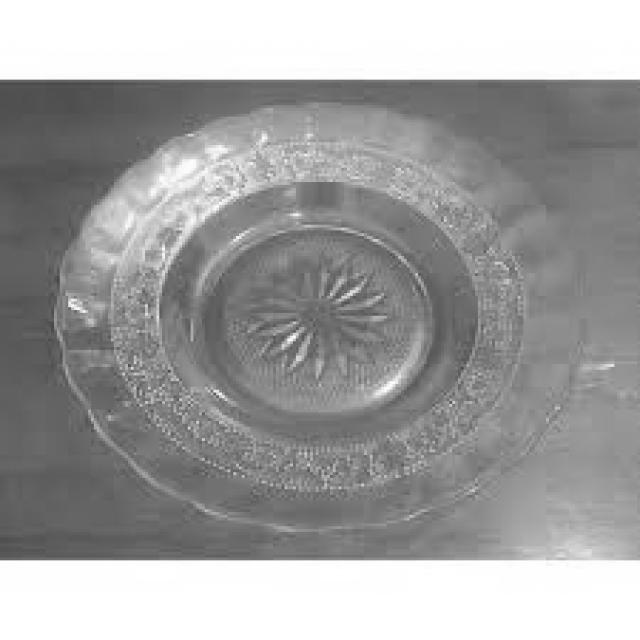dish: (45, 50, 603, 549)
